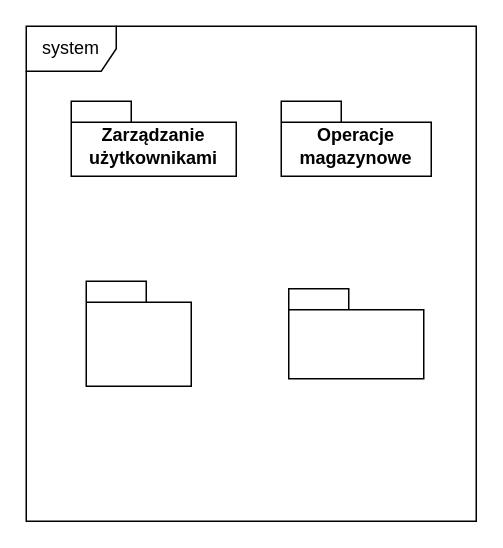
This 503x548 diagram has some shape labels left out. Here are the shapes that lost their labels. From the top down, the centre of each, then its label:
At point 138,333: "Obsługa klienta".
At point 355,333: "Logistyka i raporty".
